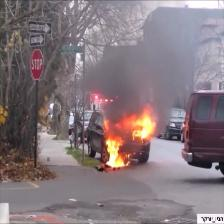fire: (103, 138, 126, 169), (130, 115, 153, 139)
smoke: (108, 47, 182, 104)
